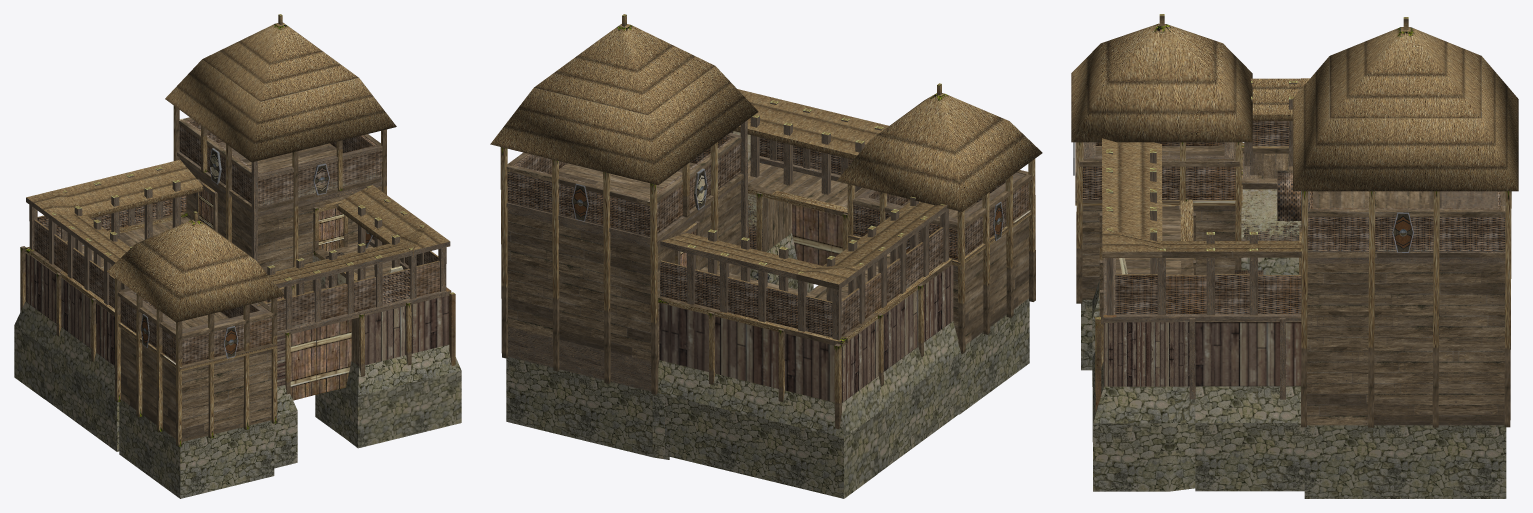
File: fortress.dae
3 views of the same model, side by side, from view 1: azimuth 30°, elevation 25°; view 2: azimuth 150°, elevation 25°; view 3: azimuth 270°, elevation 25° (orthographic). The views are drawn at different scales.
Parts seen in each view (by area): view 1: fortress; view 2: fortress; view 3: fortress.
Part boxes in pixels (x1=…): fortress: x1=14, y1=14, x2=461, y2=498; fortress: x1=490, y1=14, x2=1042, y2=498; fortress: x1=1071, y1=14, x2=1518, y2=498.
Bounding box in the file's own units: 29.98 × 29.18 × 31.72.
